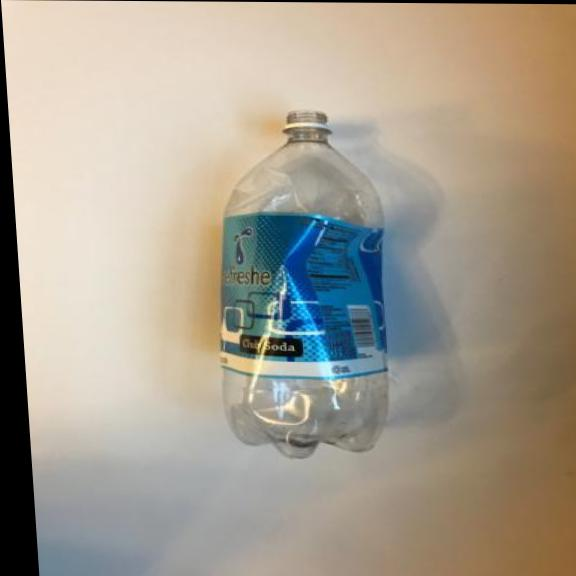Plastik: (199, 106, 403, 463)
